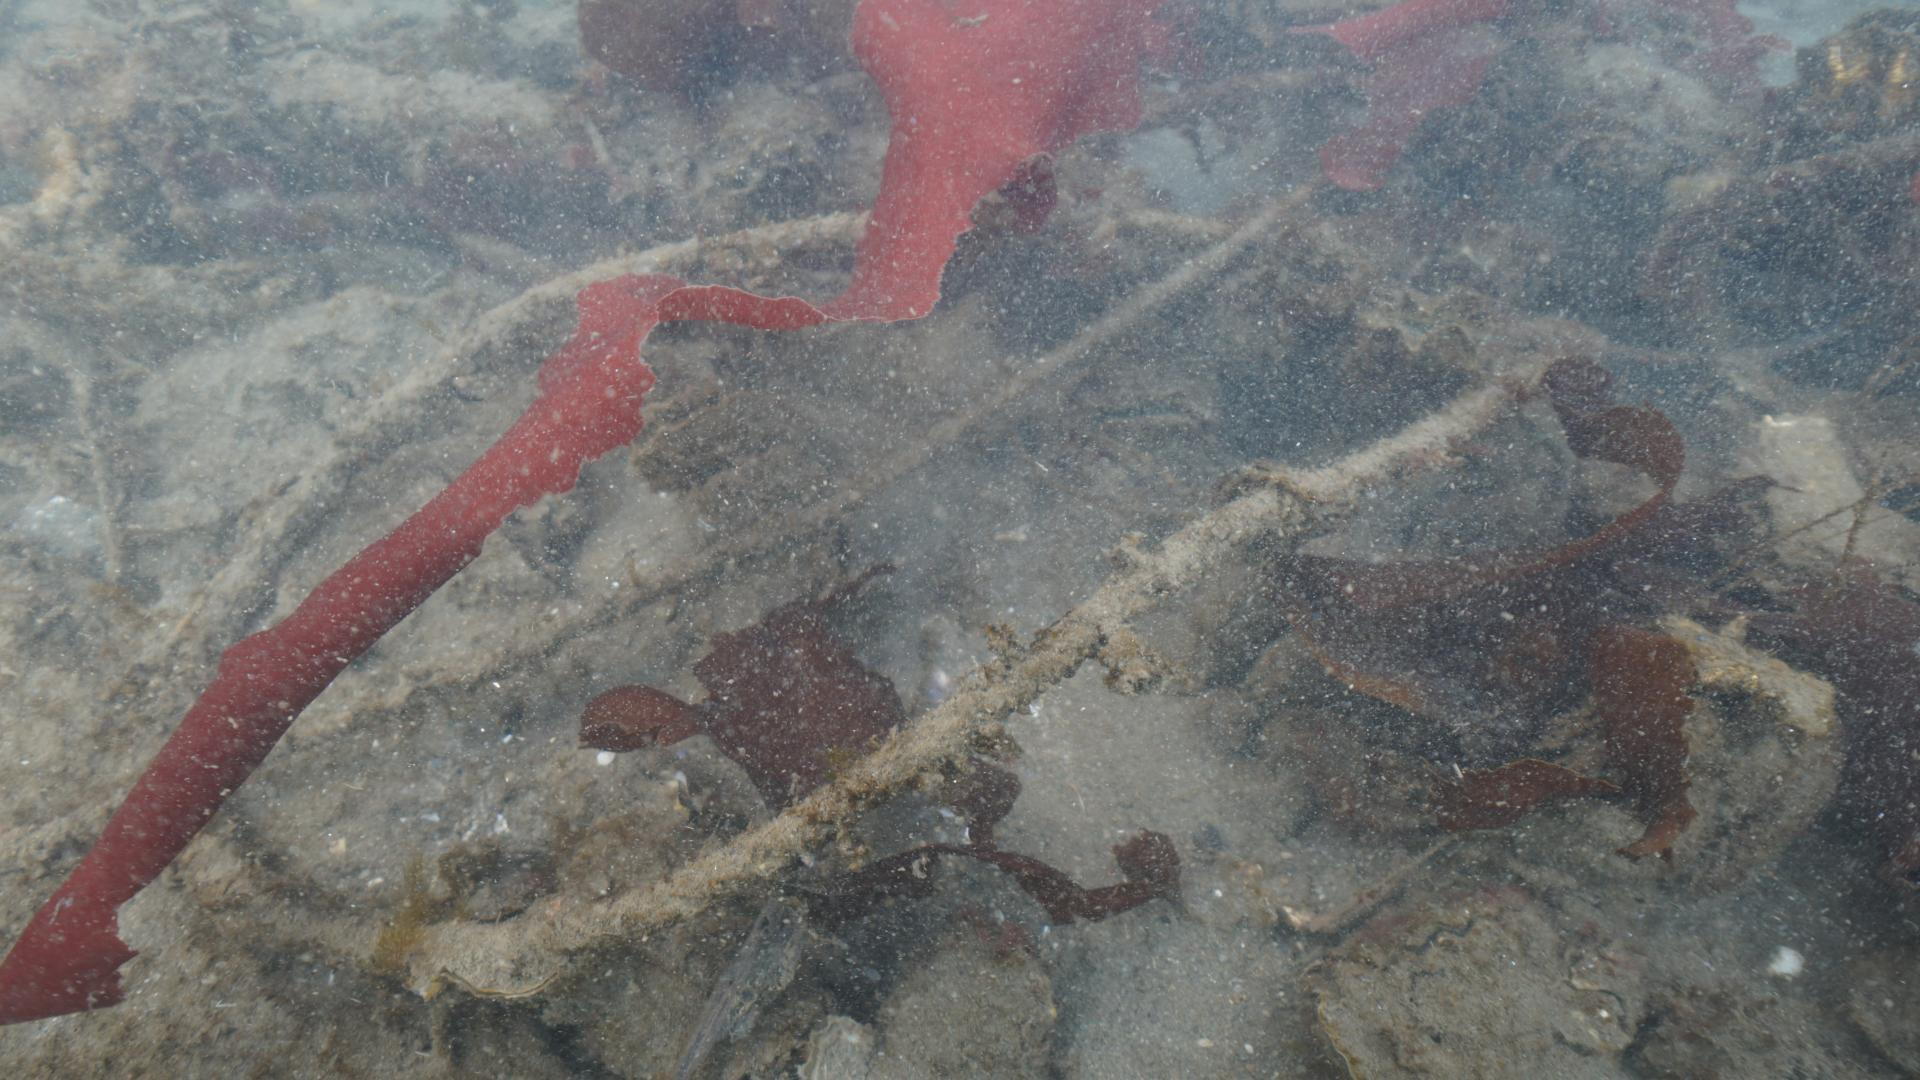rope: (142, 200, 1526, 1017), (25, 181, 1311, 860)
